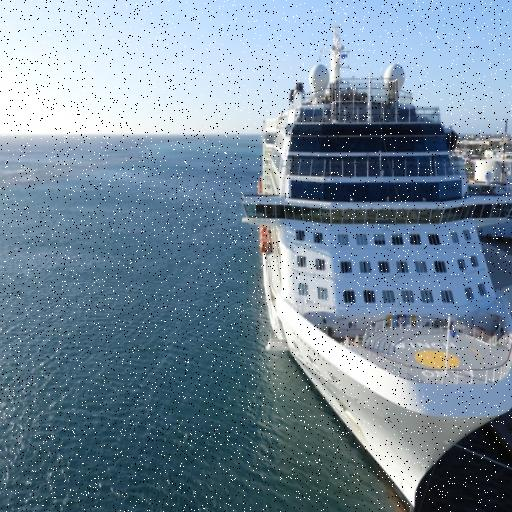cruises: (239, 25, 512, 512)
